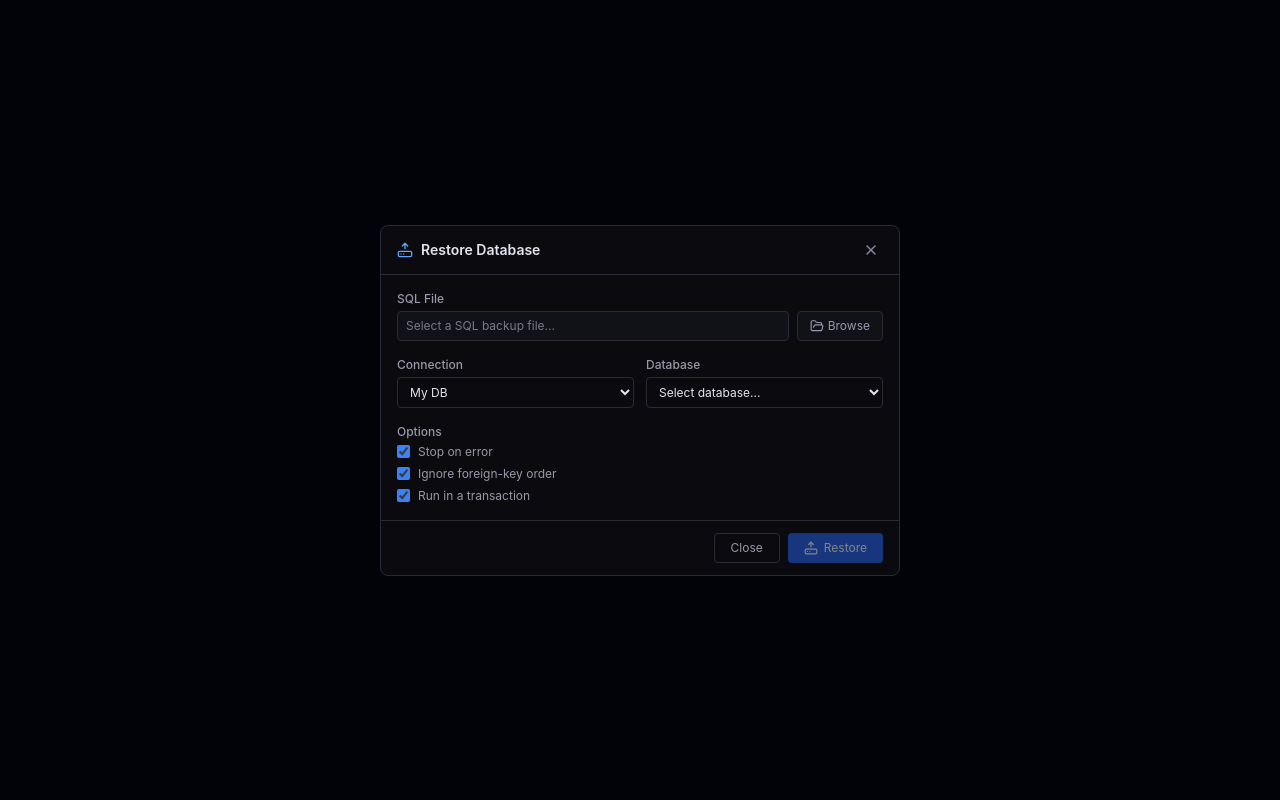
RestoreDialog › choosing a file › reports a file it cannot read instead of failing silently
Click the button "Browse".
click(840, 326)  # box [797,310,883,340]
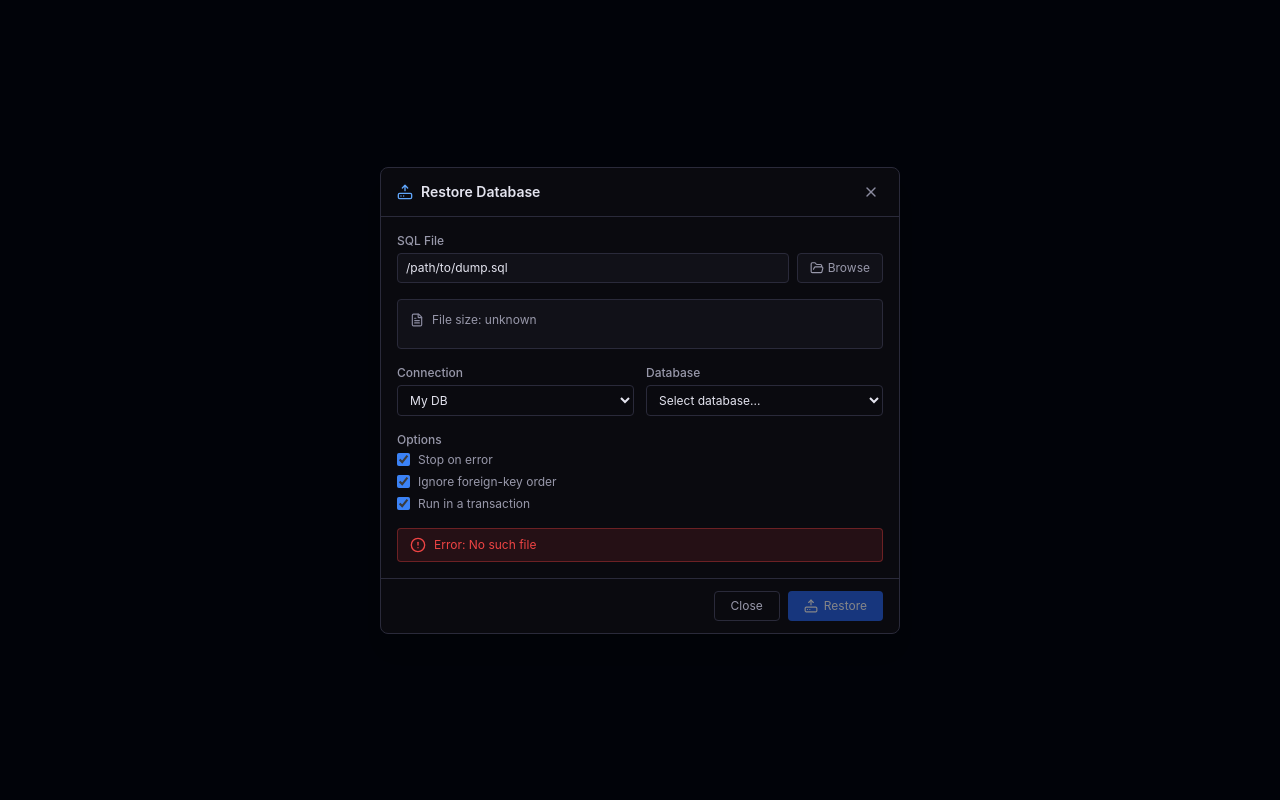
expect the text "Error: No such file" is shown: met, box [397,528,883,562]
